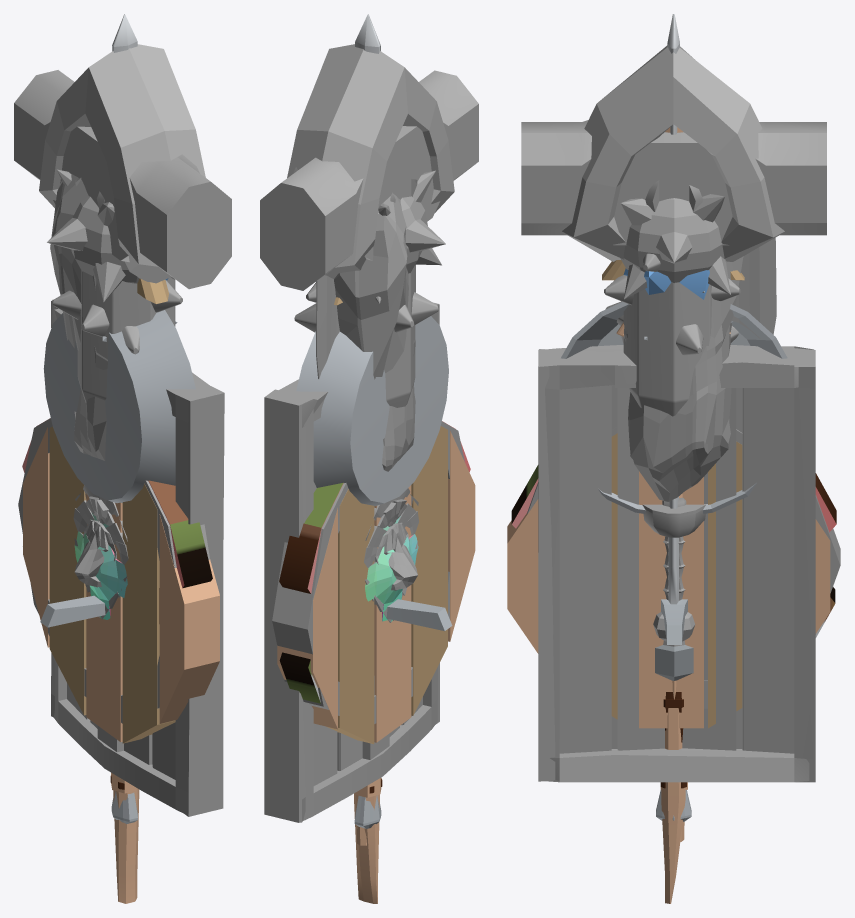
3 views of the same model, side by side, from view 1: azimuth 30°, elevation 25°; view 2: azimuth 150°, elevation 25°; view 3: azimuth 270°, elevation 25° (orthographic).
Visible parts, largest first — view 1: oneh_sheild_circle_5, oneh_sheild_square_2, staff_03:pTorus2, pCylinder8, oneh_pan_01, club_01:pCylinder1, oneh_sheild_square_1, pasted__pCylinder5, oneh_sheild_circle_3, polySurface45, polySurface43, twohand_sword_01:group2 (+1 smaller); view 2: oneh_sheild_circle_5, staff_03:pTorus2, pCylinder8, oneh_pan_01, oneh_sheild_square_1, oneh_sheild_square_2, pasted__pCylinder5, oneh_sheild_circle_3, oneh_sheild_circle_2, polySurface43, club_01:pCylinder1, twohand_sword_01:group2 (+2 smaller); view 3: oneh_sheild_square_1, staff_03:pTorus2, oneh_sheild_circle_5, pCylinder8, oneh_sheild_square_2, pasted__pCylinder5, club_01:pCylinder1, polySurface45, oneh_pan_01, twohand_sword_01:group2, axe_01:pCube1, gladius_01:pCube4 (+4 smaller).
Boxes of the visible parts, x1,y1,x2,y2 form: oneh_sheild_circle_5: (23, 426, 219, 743); oneh_sheild_square_2: (52, 299, 223, 815); staff_03:pTorus2: (39, 44, 205, 903); pCylinder8: (14, 70, 231, 793); oneh_pan_01: (43, 310, 195, 503); club_01:pCylinder1: (52, 270, 182, 402); oneh_sheild_square_1: (51, 300, 224, 816); pasted__pCylinder5: (50, 173, 107, 460); oneh_sheild_circle_3: (22, 418, 212, 623); polySurface45: (47, 169, 174, 301); polySurface43: (73, 485, 128, 619); twohand_sword_01:group2: (40, 14, 137, 823); oneh_sheild_circle_5: (277, 426, 475, 743); staff_03:pTorus2: (287, 44, 454, 903); pCylinder8: (260, 70, 478, 797); oneh_pan_01: (296, 316, 448, 506); oneh_sheild_square_1: (264, 304, 439, 822); oneh_sheild_square_2: (266, 302, 437, 822); pasted__pCylinder5: (334, 194, 415, 471); oneh_sheild_circle_3: (279, 421, 470, 703); oneh_sheild_circle_2: (272, 421, 464, 723); polySurface43: (364, 488, 418, 694); club_01:pCylinder1: (294, 264, 438, 407); twohand_sword_01:group2: (354, 14, 452, 828); oneh_sheild_square_1: (538, 346, 815, 782); staff_03:pTorus2: (562, 45, 784, 903); oneh_sheild_circle_5: (507, 433, 830, 728); pCylinder8: (521, 120, 826, 789); oneh_sheild_square_2: (538, 345, 815, 781); pasted__pCylinder5: (621, 256, 743, 501); club_01:pCylinder1: (604, 253, 741, 416); polySurface45: (620, 194, 730, 299); oneh_pan_01: (561, 302, 787, 513); twohand_sword_01:group2: (656, 14, 691, 821); axe_01:pCube1: (732, 237, 776, 339); gladius_01:pCube4: (642, 504, 705, 641).
Bounding box in the file's own units: 0.2618 × 1.38 × 0.4686.
